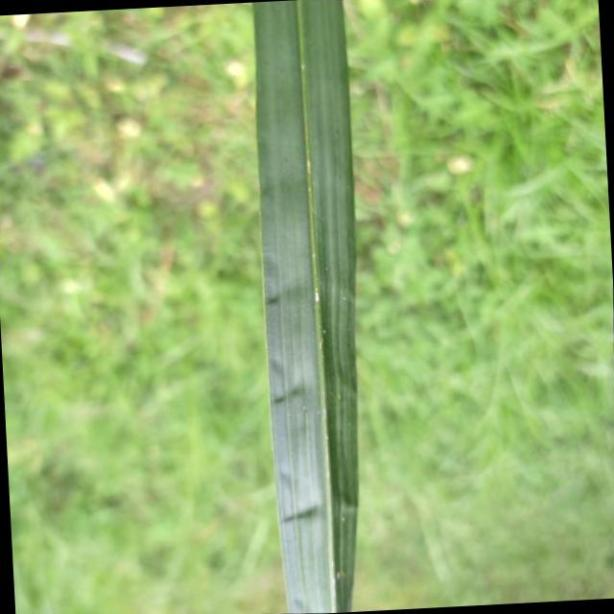Boron: (254, 0, 362, 614)
